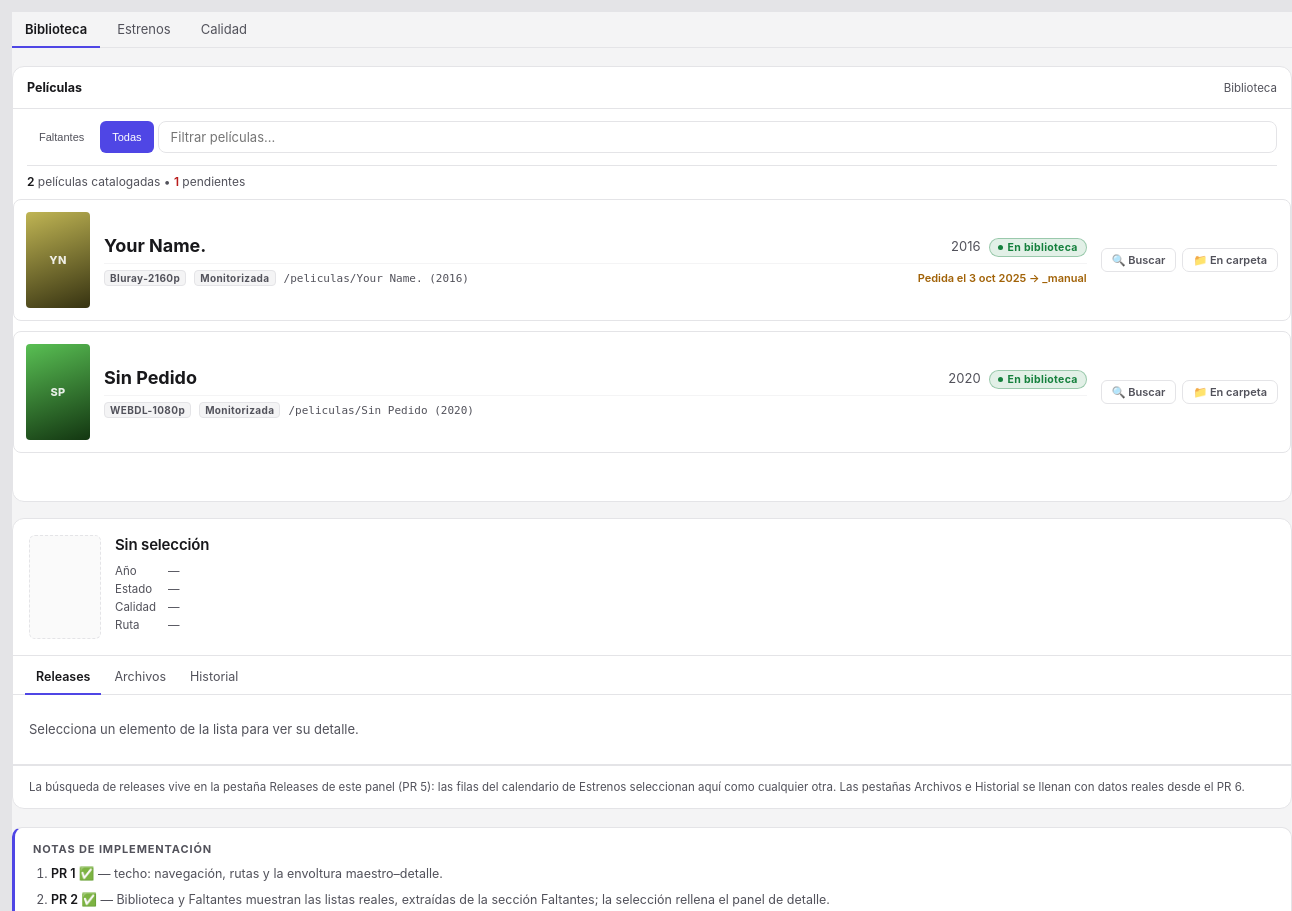
it: sections · PR 6 — the detail tabs › Películas · Archivos reports a failed fetch as an error, not an empty list
Check: the text "Sin Pedido" is shown, box [104,367,197,388]
Click the element with class "sec-row" that starts with "Your Name.": (652, 260) [13,199,1291,321]
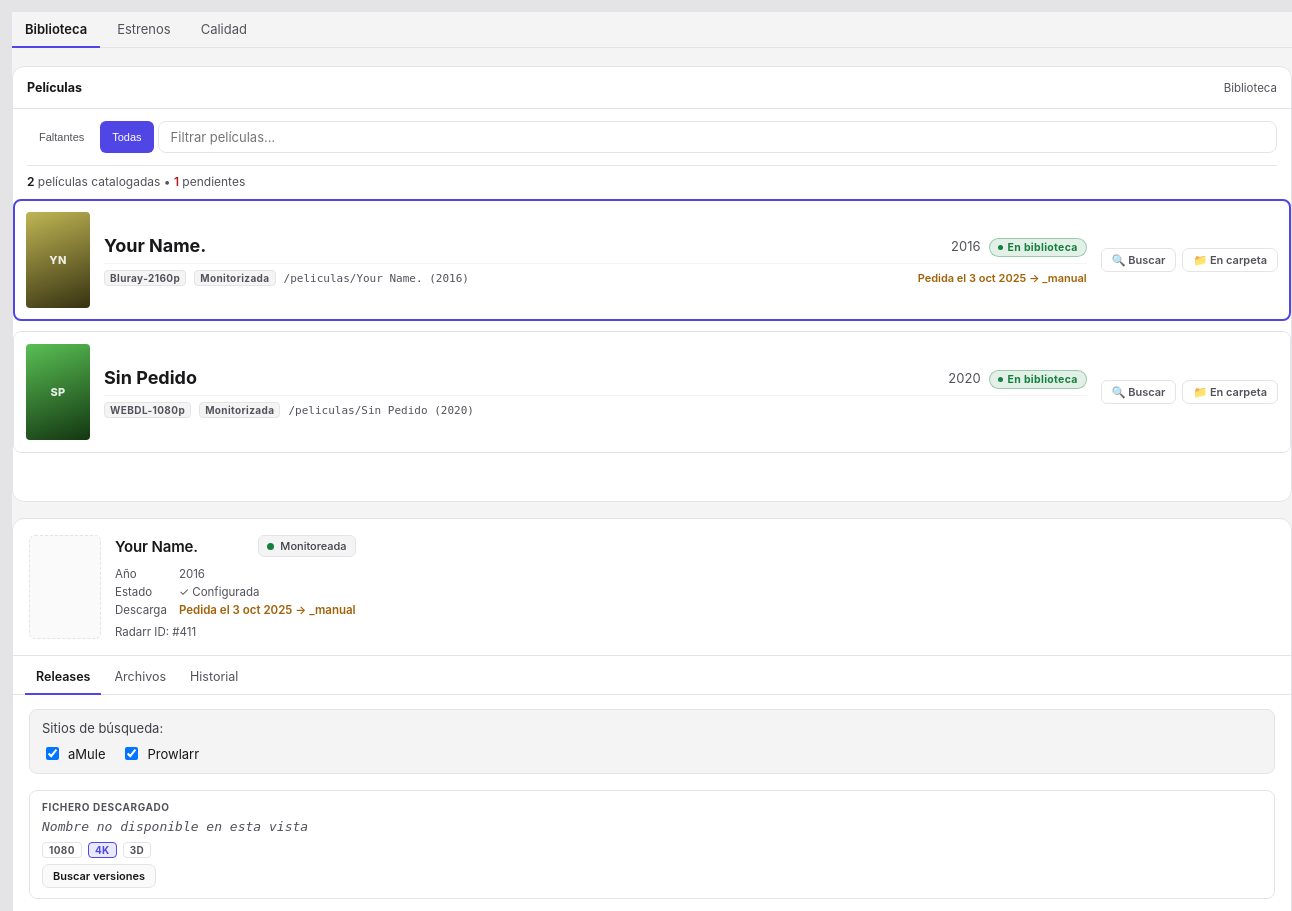
Click the button "Archivos": (140, 678) [104,660,177,695]
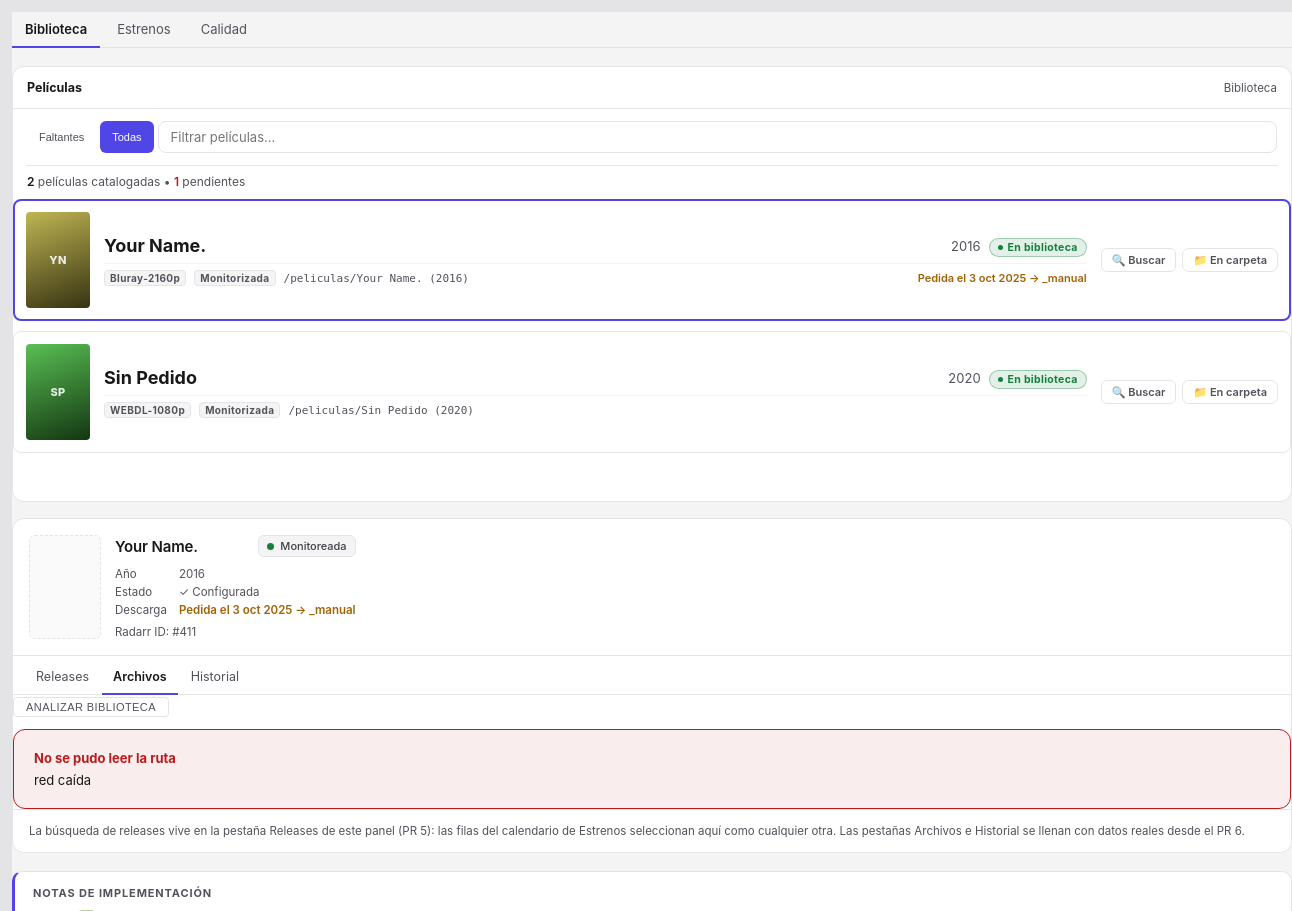
Check: the message shows "No se pudo leer la ruta", box [34,750,176,766]
Check: the message shows "red caída", box [34,772,91,788]
Check: the text "Nombre" is gone
